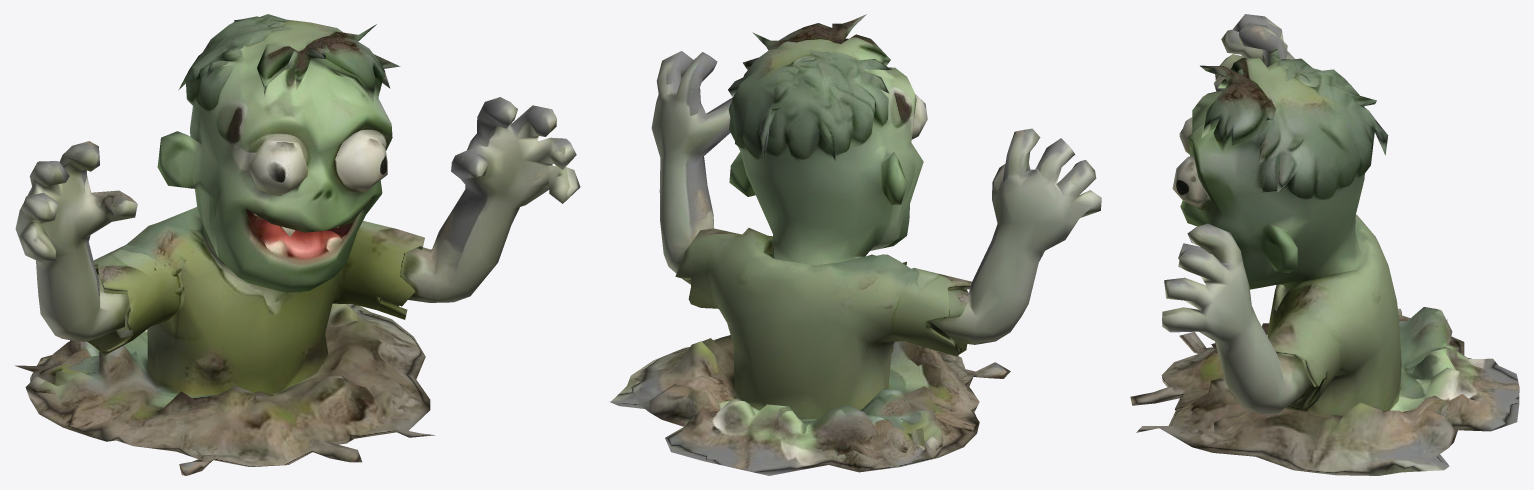
File: zombie.glb
3 views of the same model, side by side, from view 1: azimuth 30°, elevation 25°; view 2: azimuth 150°, elevation 25°; view 3: azimuth 270°, elevation 25° (orthographic). The views are drawn at different scales.
Parts seen in each view (by area): view 1: tripo_node_acc56451-b8b7-453c-af0d-929dd90b8629; view 2: tripo_node_acc56451-b8b7-453c-af0d-929dd90b8629; view 3: tripo_node_acc56451-b8b7-453c-af0d-929dd90b8629.
Boxes of the visible parts, left/top/right/bottom form: tripo_node_acc56451-b8b7-453c-af0d-929dd90b8629: left=15, top=14, right=580, bottom=475; tripo_node_acc56451-b8b7-453c-af0d-929dd90b8629: left=609, top=14, right=1101, bottom=475; tripo_node_acc56451-b8b7-453c-af0d-929dd90b8629: left=1130, top=14, right=1519, bottom=475.
Bounding box in the file's own units: 1 × 0.7026 × 0.7189.
Materials: 1 (1 with a texture image).
